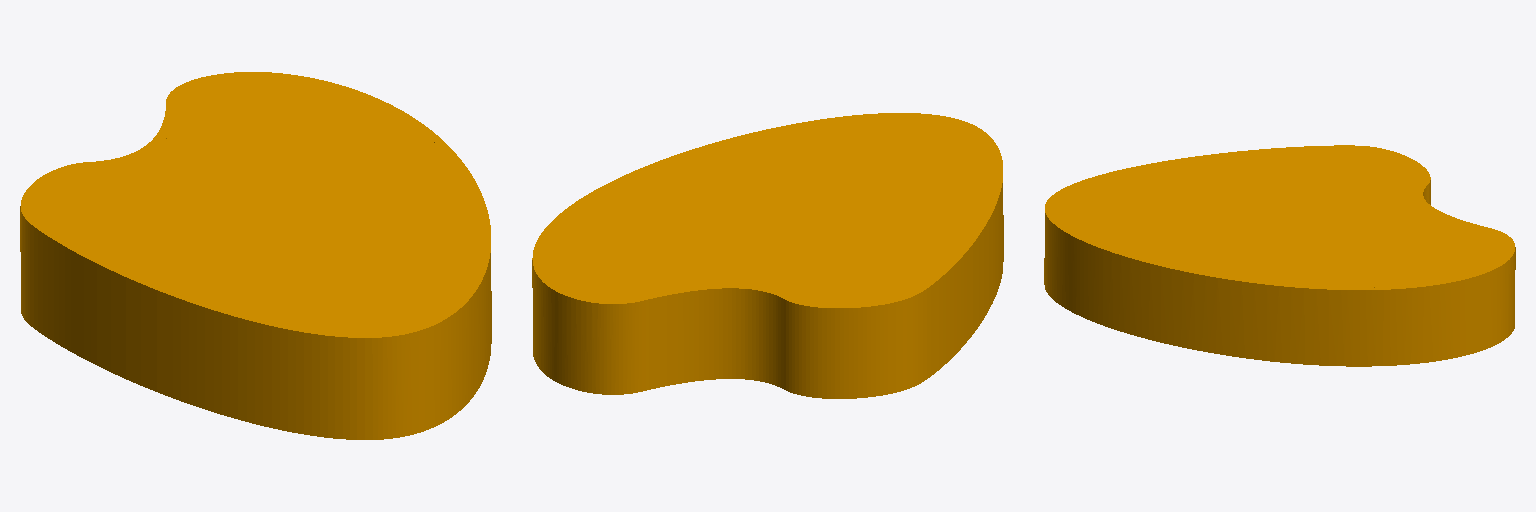
URDF robot description (block):
<?xml version="1.0"?>
<robot name="block">

<link name="chicken">

  <collision>
    <origin xyz="0 0 0" rpy="0 0 0"/>
    <geometry>
      <box size = ".1 .1 .06" />
    </geometry>
  </collision>

  <visual>
    <origin xyz="0 0 0" rpy="1.57 0 0"/>
    <geometry>
        <mesh scale=".0004 .0004 .0004" filename="package://ur_description/meshes/steak.stl"/>
    </geometry>
  </visual>

  <inertial>
   <origin xyz="0 0 0" rpy="1.57 0 0"/>
   <mass value="0.0225" />
   <inertia
      ixx="0.00000379215" ixy="0.0"  ixz="0.0"
      iyy="0.00000379215" iyz="0.0"  izz="0.00000379215" />
  </inertial>

</link>

<gazebo reference="base_link">
  <mu1>100</mu1>
  <mu2>100</mu2>
  <kp>2147483647</kp>
  <kd>1</kd>
  <maxVel>0</maxVel>
  <minDepth>0.001</minDepth>
  <material>Gazebo/Brown</material>
</gazebo>

</robot>

--- Render facts (derived) ---
The picture shows the robot from 3 angles, left to right: view 1: azimuth 30°, elevation 25°; view 2: azimuth 150°, elevation 25°; view 3: azimuth 270°, elevation 25°; orthographic projection.
Robot: block — 1 links, 0 joints (none); root link chicken; default pose: every joint at zero.
Visible links, largest first — view 1: chicken; view 2: chicken; view 3: chicken.
Boxes of the visible links, x1=… form: chicken: x1=20, y1=72, x2=491, y2=439; chicken: x1=532, y1=113, x2=1003, y2=398; chicken: x1=1044, y1=145, x2=1515, y2=366.
Bounding box of the posed robot: 0.0413 × 0.0568 × 0.0102 m (x, y, z).
Meshes: 1 distinct files referenced, 1 mesh visuals loaded (1 ASCII STL).
